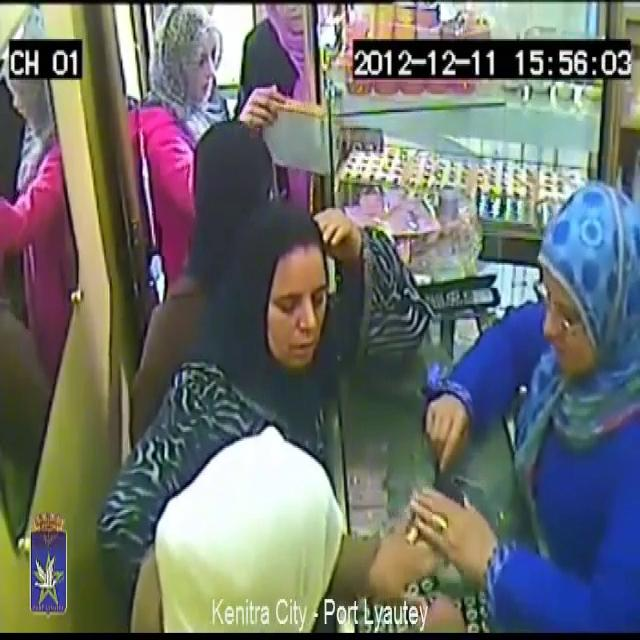Product: (256, 82, 348, 182), (404, 512, 428, 556)
normal: (464, 151, 640, 640), (248, 218, 372, 424), (184, 87, 279, 278)
shoplifting: (116, 410, 445, 640), (138, 0, 355, 266)
